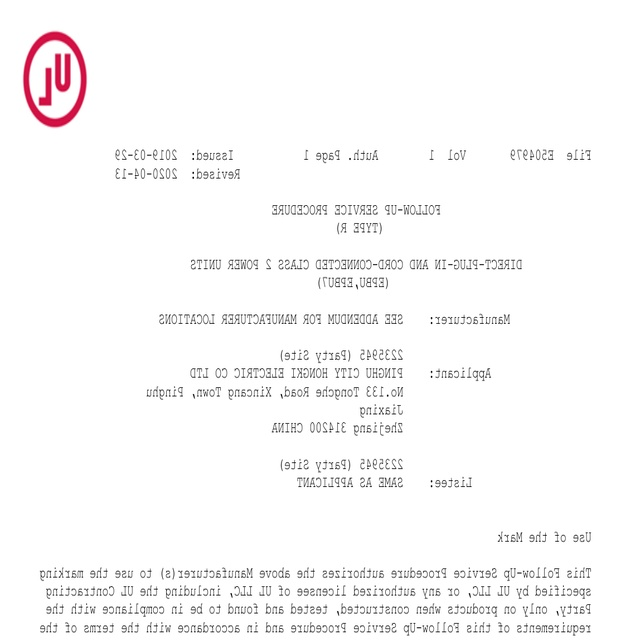ul: (23, 30, 90, 126)
